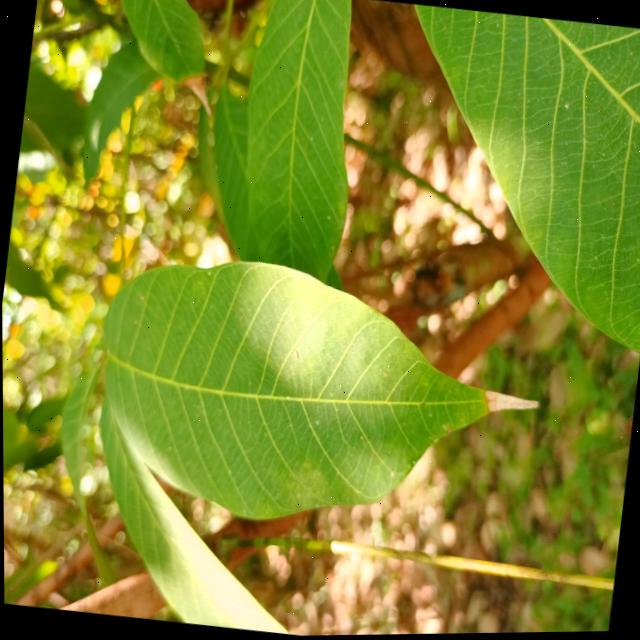Leaf-Blight: (481, 389, 539, 419)
